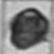correct: (6, 3, 52, 50)
